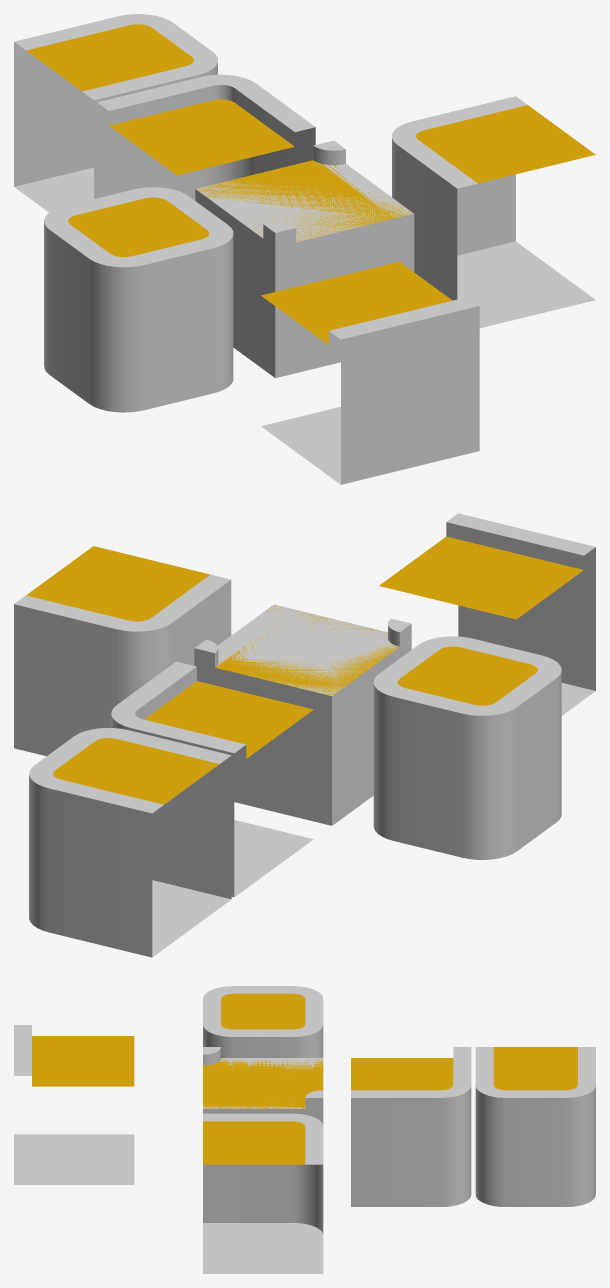
Rendered from RuleTileAssets.fbx.
3 views of the same model, one above another, from view 1: azimuth 30°, elevation 25°; view 2: azimuth 150°, elevation 25°; view 3: azimuth 270°, elevation 25° (orthographic). The views are drawn at different scales.
Visible parts, largest first — view 1: Center.001, Side, 1Rounded.001, Center, 2Rounded, 1Rounded, Center.002, Center.003; view 2: 2Rounded, Center.001, 1Rounded.001, Side, Center, 1Rounded, Center.003, Center.002; view 3: 1Rounded.001, 2Rounded, 1Rounded, Side, Center.001, Center.002, Center, Center.003.
Boxes of the visible parts, <box> form: Center.001: <box>44,187,233,412</box>; Side: <box>261,261,479,484</box>; 1Rounded.001: <box>392,96,595,328</box>; Center: <box>195,162,414,378</box>; 2Rounded: <box>14,14,217,212</box>; 1Rounded: <box>97,74,315,200</box>; Center.002: <box>195,140,414,377</box>; Center.003: <box>196,141,408,377</box>; 2Rounded: <box>29,728,231,957</box>; Center.001: <box>373,636,561,859</box>; 1Rounded.001: <box>14,546,231,756</box>; Side: <box>379,513,595,715</box>; Center: <box>194,604,409,825</box>; 1Rounded: <box>111,661,313,897</box>; Center.003: <box>194,618,411,825</box>; Center.002: <box>194,605,398,824</box>; 1Rounded.001: <box>203,1113,323,1273</box>; 2Rounded: <box>475,1047,595,1206</box>; 1Rounded: <box>351,1047,471,1206</box>; Side: <box>14,1025,134,1184</box>; Center.001: <box>203,986,323,1057</box>; Center.002: <box>203,1059,323,1124</box>; Center: <box>203,1058,323,1125</box>; Center.003: <box>203,1047,323,1113</box>.
Bounding box in the file's own units: 7.01 × 2 × 9.66.
